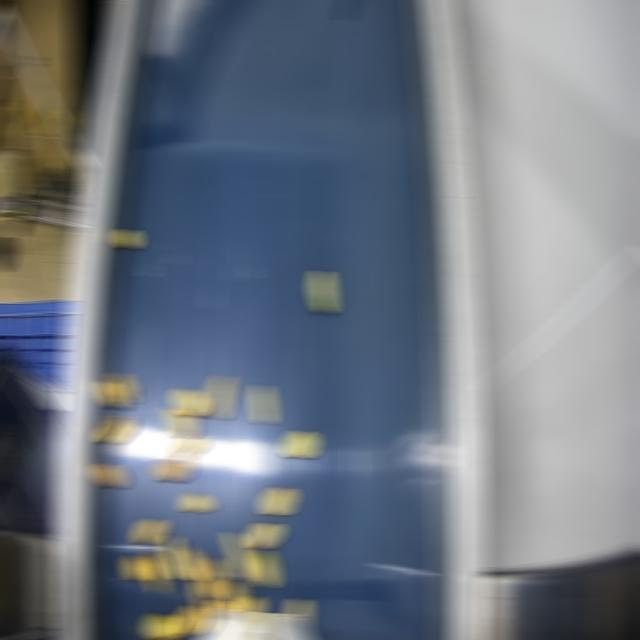Baby Potato: (229, 531, 253, 582), (163, 535, 188, 580), (208, 375, 231, 418), (194, 581, 213, 632), (145, 613, 180, 639), (311, 270, 332, 313), (99, 414, 130, 443), (143, 550, 164, 592), (201, 557, 222, 599), (262, 487, 293, 515), (284, 430, 315, 458), (180, 545, 203, 582), (165, 409, 194, 438), (173, 388, 204, 415), (248, 522, 279, 549), (176, 605, 203, 635), (155, 457, 188, 481), (256, 549, 276, 588), (253, 385, 272, 423), (94, 464, 123, 488), (136, 519, 165, 543), (124, 555, 149, 581), (223, 579, 244, 609), (111, 372, 132, 402), (100, 381, 123, 408), (177, 435, 202, 459), (183, 493, 210, 512), (288, 598, 307, 623), (238, 595, 261, 612), (209, 600, 230, 617), (116, 229, 133, 249)
